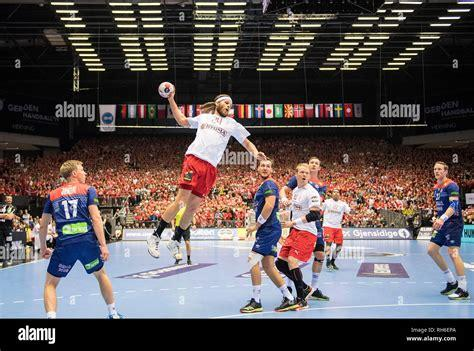ballon_handball: (158, 80, 176, 100)
